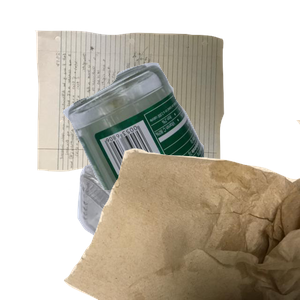glass: (60, 60, 300, 240)
paper: (32, 28, 249, 196)
plastic: (75, 147, 289, 300)
trash: (60, 120, 300, 300)
